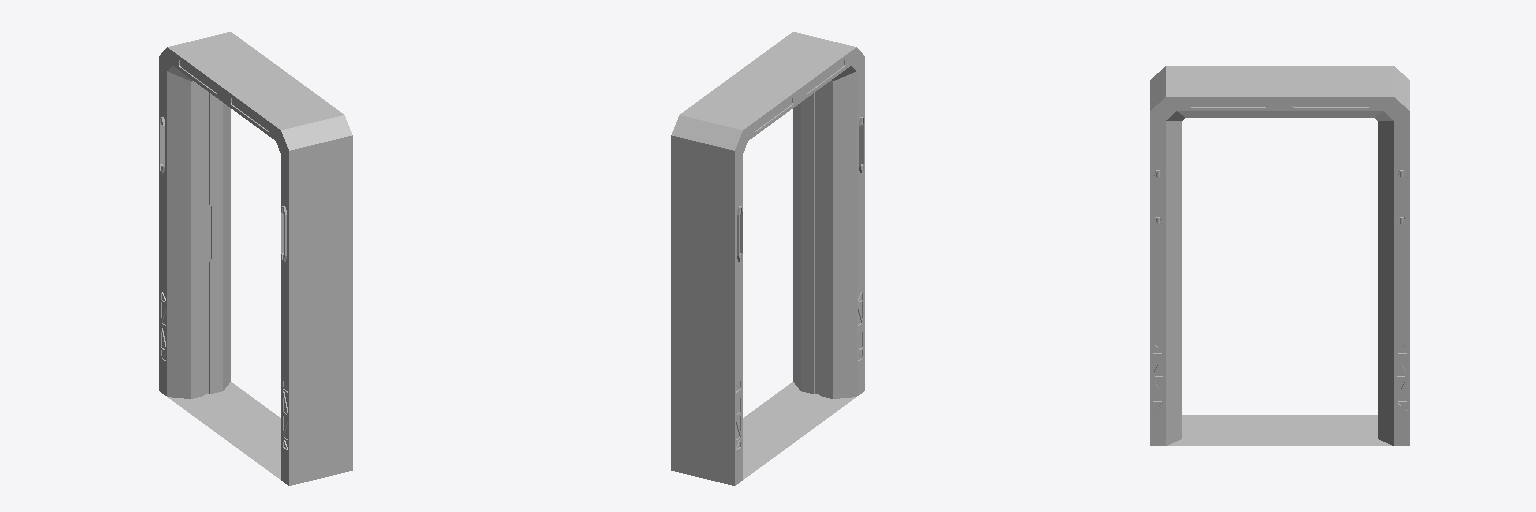
Rendered from Door Frame V2.obj.
3 renders of one model, left to right at view 1: azimuth 30°, elevation 25°; view 2: azimuth 150°, elevation 25°; view 3: azimuth 270°, elevation 25°, orthographic.
Parts seen in each view (by area): view 1: SketchUp_ID3.002, SketchUp.025_ID157.001, SketchUp.023_ID145.001, SketchUp.007_ID49.001, SketchUp.008_ID55.001, SketchUp.005_ID37.001, SketchUp.001_ID13.001, SketchUp.003_ID25.001; view 2: SketchUp.025_ID157.001, SketchUp_ID3.002, SketchUp.023_ID145.001, SketchUp.001_ID13.001, SketchUp.008_ID55.001, SketchUp.005_ID37.001, SketchUp.007_ID49.001, SketchUp.003_ID25.001; view 3: SketchUp_ID3.002, SketchUp.025_ID157.001, SketchUp.023_ID145.001, SketchUp.008_ID55.001, SketchUp.005_ID37.001, SketchUp.001_ID13.001, SketchUp.007_ID49.001, SketchUp.003_ID25.001, SketchUp.010_ID67.001, SketchUp.009_ID61.001.
Boxes of the visible parts, <box> form: SketchUp_ID3.002: <box>281,166,352,457</box>; SketchUp.025_ID157.001: <box>159,88,230,370</box>; SketchUp.023_ID145.001: <box>159,354,352,485</box>; SketchUp.007_ID49.001: <box>270,107,352,177</box>; SketchUp.008_ID55.001: <box>230,77,332,136</box>; SketchUp.005_ID37.001: <box>179,40,280,98</box>; SketchUp.001_ID13.001: <box>159,32,241,95</box>; SketchUp.003_ID25.001: <box>219,69,291,106</box>; SketchUp.025_ID157.001: <box>671,167,742,457</box>; SketchUp_ID3.002: <box>793,87,864,370</box>; SketchUp.023_ID145.001: <box>671,357,864,485</box>; SketchUp.001_ID13.001: <box>671,107,753,182</box>; SketchUp.008_ID55.001: <box>742,40,845,98</box>; SketchUp.005_ID37.001: <box>691,77,793,136</box>; SketchUp.007_ID49.001: <box>782,32,864,90</box>; SketchUp.003_ID25.001: <box>732,69,804,106</box>; SketchUp_ID3.002: <box>1150,135,1181,417</box>; SketchUp.025_ID157.001: <box>1378,136,1409,417</box>; SketchUp.023_ID145.001: <box>1150,411,1409,445</box>; SketchUp.008_ID55.001: <box>1188,66,1268,117</box>; SketchUp.005_ID37.001: <box>1291,66,1370,117</box>; SketchUp.001_ID13.001: <box>1371,66,1409,142</box>; SketchUp.007_ID49.001: <box>1150,66,1187,137</box>; SketchUp.003_ID25.001: <box>1269,66,1290,117</box>; SketchUp.010_ID67.001: <box>1190,100,1266,107</box>; SketchUp.009_ID61.001: <box>1293,100,1369,107</box>.
Bounding box in the file's own units: 7.41 × 36.41 × 24.49.